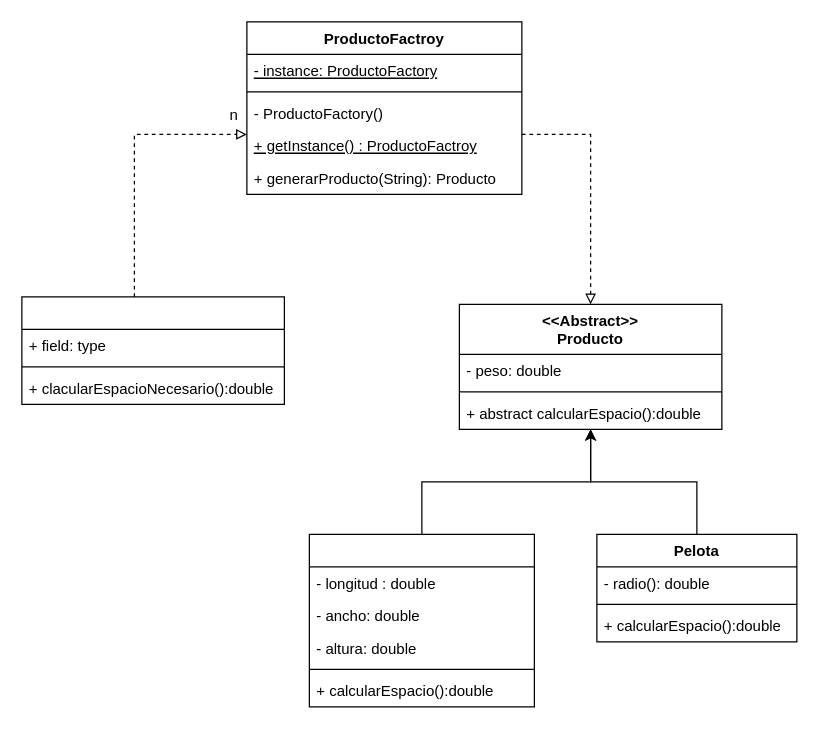
This 819x733 diagram has some shape labels left out. Here are the shapes that lost their labels. From the top down, the box of each, then its label:
(21, 296, 284, 404): Almacen
(308, 533, 534, 707): Caja
